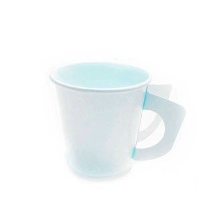paper_cup: (43, 52, 190, 184)
